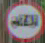Heavy Vehicles: (4, 2, 42, 41)
